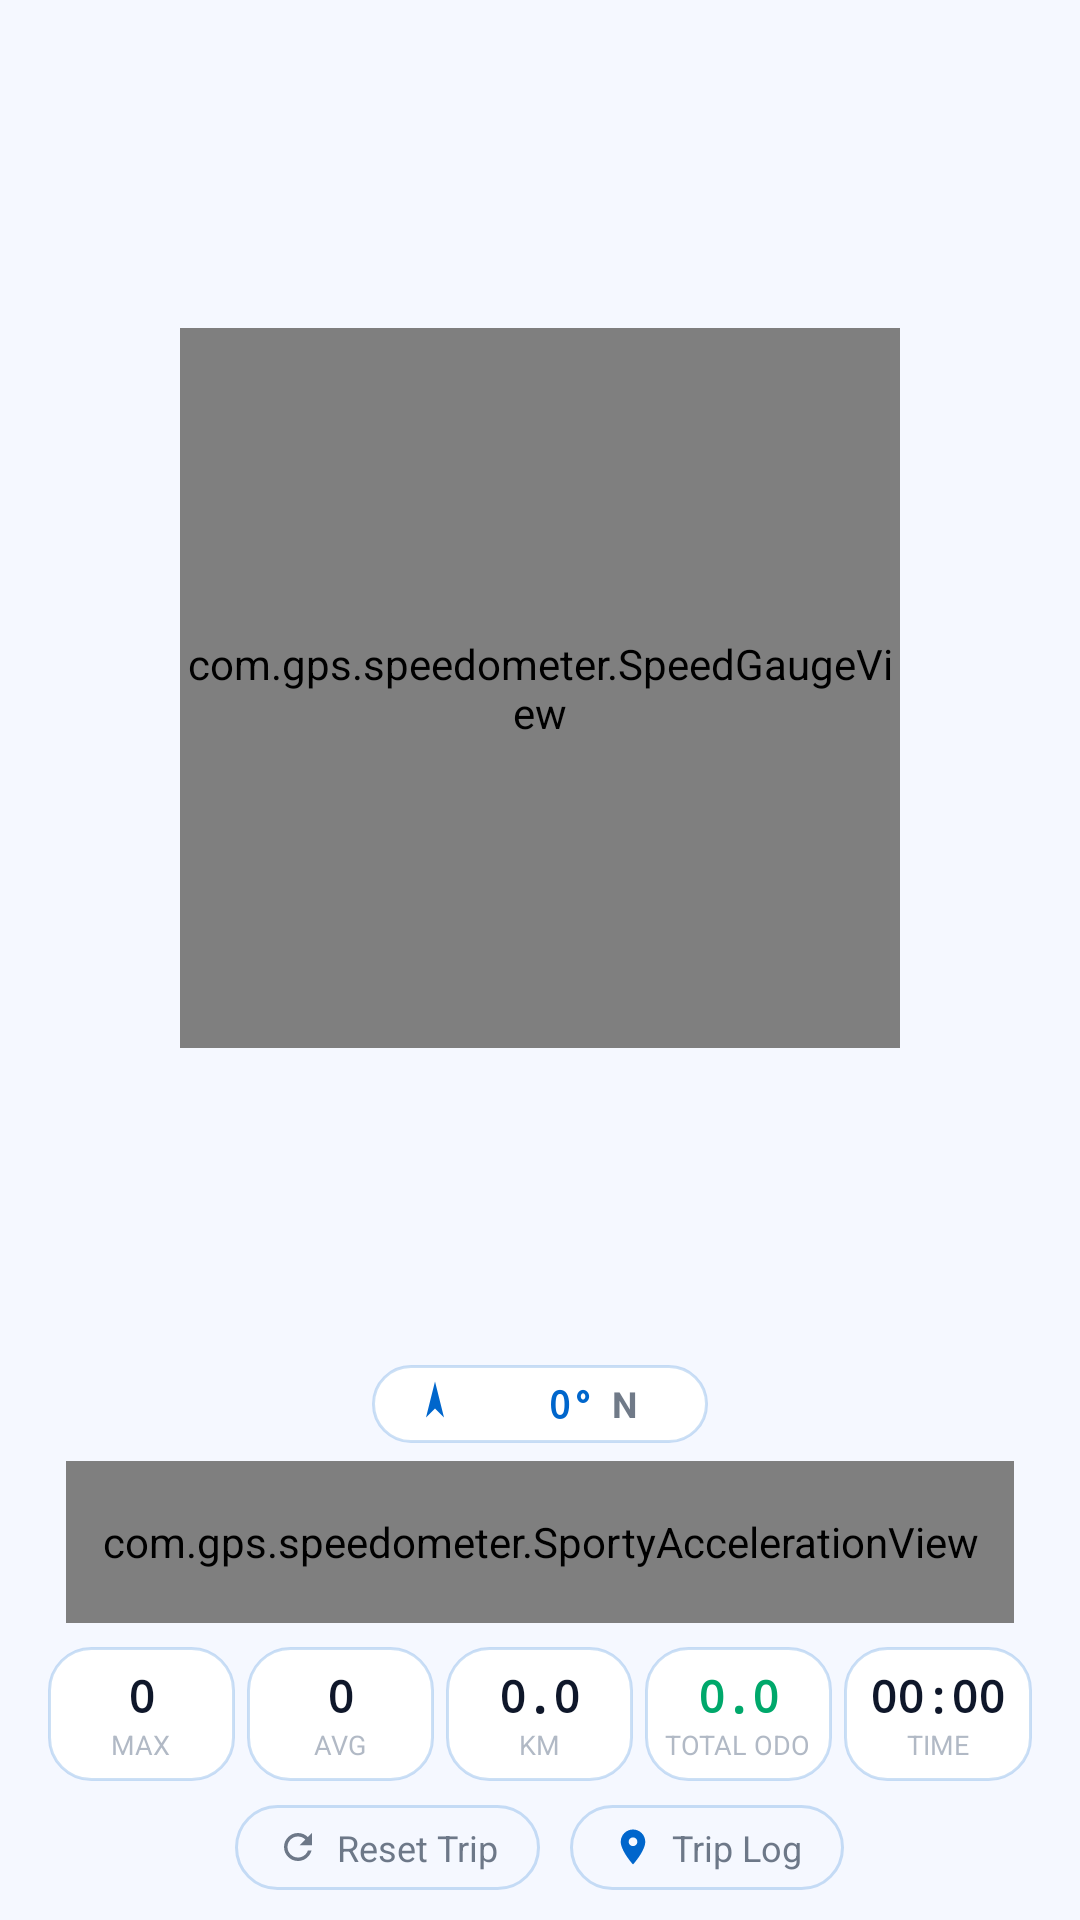

Point at icon controls on the screen. Image size 1080x1920, points as point (x, y).
Compass: point (435, 1399)
